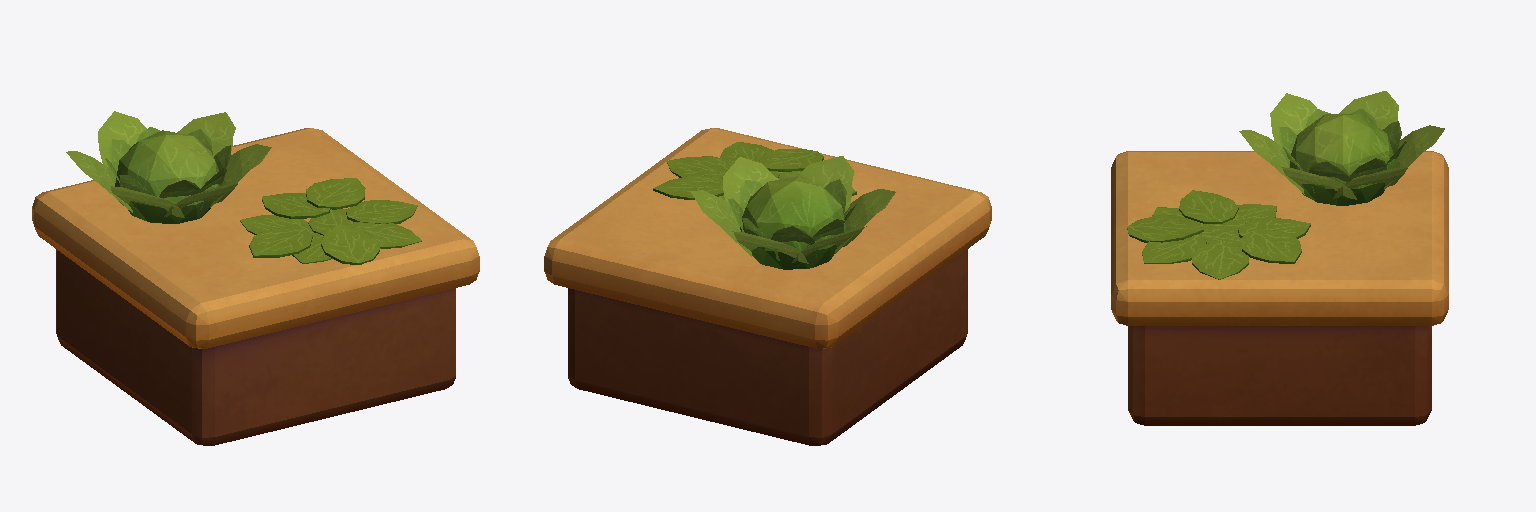
3 renders of one model, left to right at view 1: azimuth 30°, elevation 25°; view 2: azimuth 150°, elevation 25°; view 3: azimuth 270°, elevation 25°, orthographic.
Parts seen in each view (by area): view 1: ClearCounter.Base.010, Cabbage.Base, CabbageSlices; view 2: ClearCounter.Base.010, Cabbage.Base, CabbageSlices; view 3: ClearCounter.Base.010, Cabbage.Base, CabbageSlices.
Part boxes in pixels (x1,y1,x2,y2): ClearCounter.Base.010: (32, 128, 479, 445); Cabbage.Base: (66, 111, 271, 223); CabbageSlices: (240, 178, 421, 264); ClearCounter.Base.010: (544, 128, 991, 445); Cabbage.Base: (690, 156, 895, 269); CabbageSlices: (653, 142, 856, 199); ClearCounter.Base.010: (1111, 151, 1448, 425); Cabbage.Base: (1239, 91, 1444, 205); CabbageSlices: (1127, 190, 1310, 279).
Bounding box in the file's own units: 1.21 × 0.8892 × 1.21.
2 materials, 2 textured.